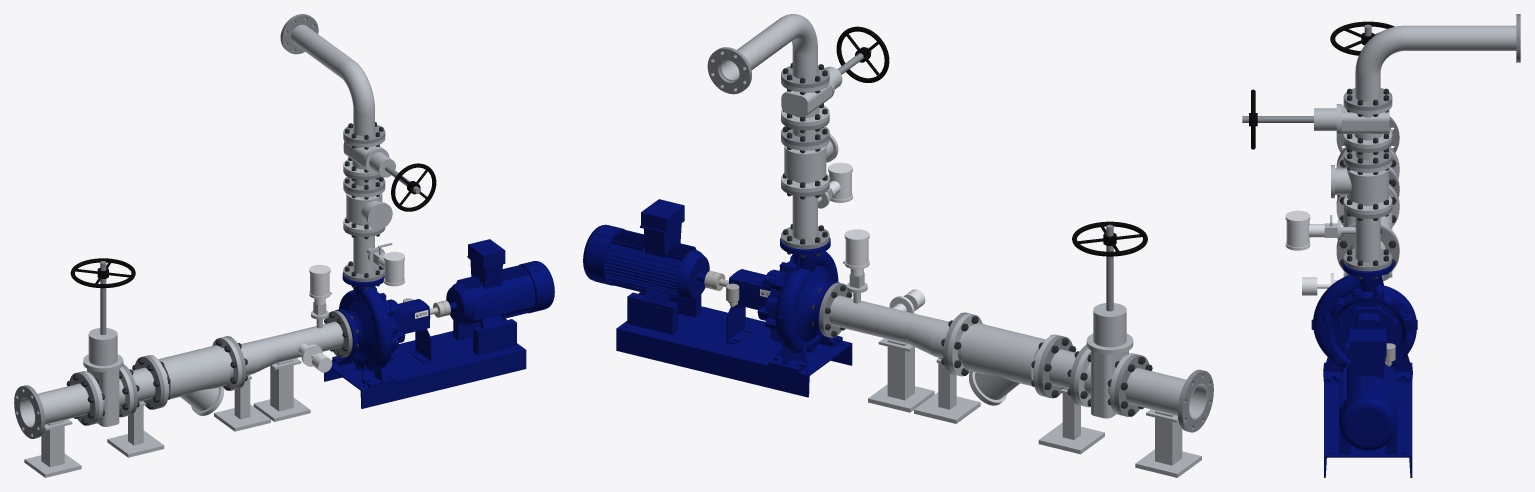
The model's file is cdu_pump_skid_etanorm_125-100-315.glb.
3 views of the same model, side by side, from view 1: azimuth 30°, elevation 25°; view 2: azimuth 150°, elevation 25°; view 3: azimuth 270°, elevation 25° (orthographic). The views are drawn at different scales.
Parts seen in each view (by area): view 1: Standard Motor Data 5468011 0 400 0 180 0 118 5002 1228:1, Standard_baseplate__260500240003:1, S_Y_STRAINER_DN150, Etanorm_Casing2_dev test255125-100-31512510031567035.1111138, HV-101_SUCTION_GATE_VALVE_DN150, S_PIPE_DN150_3_FROM_TOWER, S00_PIPE_SUPPORT, S2_PIPE_SUPPORT, NRV-102_DISCHARGE_CHECK_VALVE_DN100, S_PIPE_DN125, HV-102_DISCHARGE_GATE_VALVE_DN100, S1_PIPE_SUPPORT (+16 smaller); view 2: Standard Motor Data 5468011 0 400 0 180 0 118 5002 1228:1, Standard_baseplate__260500240003:1, S_Y_STRAINER_DN150, Etanorm_Casing2_dev test255125-100-31512510031567035.1111138, HV-101_SUCTION_GATE_VALVE_DN150, S_PIPE_DN150_3_FROM_TOWER, S00_PIPE_SUPPORT, S_PIPE_DN125, S2_PIPE_SUPPORT, NRV-102_DISCHARGE_CHECK_VALVE_DN100, HV-102_DISCHARGE_GATE_VALVE_DN100, D_PIPE_DN100_4_TO_HEADER (+17 smaller); view 3: Standard Motor Data 5468011 0 400 0 180 0 118 5002 1228:1, Etanorm_Casing2_dev test255125-100-31512510031567035.1111138, Standard_baseplate__260500240003:1, D_PIPE_DN100_4_TO_HEADER, HV-102_DISCHARGE_GATE_VALVE_DN100, NRV-102_DISCHARGE_CHECK_VALVE_DN100, Casing_cover3128834942785002400:1, D_ELBOW_90_LR_DN100, Bearing_bracket_3513835.15002400:1, PT-102_DISCHARGE_PRESSURE_TX, D_PIPE_DN100_1, HV-101_SUCTION_HANDWHEEL (+11 smaller).
Part boxes in pixels (x1,y1,x2,y2): Standard Motor Data 5468011 0 400 0 180 0 118 5002 1228:1: [446, 239, 554, 355]; Standard_baseplate__260500240003:1: [324, 331, 526, 408]; S_Y_STRAINER_DN150: [146, 337, 242, 415]; Etanorm_Casing2_dev test255125-100-31512510031567035.1111138: [332, 286, 395, 387]; HV-101_SUCTION_GATE_VALVE_DN150: [81, 328, 133, 426]; S_PIPE_DN150_3_FROM_TOWER: [19, 383, 89, 428]; S00_PIPE_SUPPORT: [253, 358, 310, 421]; S2_PIPE_SUPPORT: [24, 419, 81, 477]; NRV-102_DISCHARGE_CHECK_VALVE_DN100: [343, 186, 392, 233]; S_PIPE_DN125: [269, 321, 343, 362]; HV-102_DISCHARGE_GATE_VALVE_DN100: [343, 136, 395, 177]; S1_PIPE_SUPPORT: [107, 401, 164, 457]; Standard Motor Data 5468011 0 400 0 180 0 118 5002 1228:1: [583, 199, 709, 334]; Standard_baseplate__260500240003:1: [616, 306, 852, 397]; S_Y_STRAINER_DN150: [947, 313, 1059, 405]; Etanorm_Casing2_dev test255125-100-31512510031567035.1111138: [768, 251, 842, 372]; HV-101_SUCTION_GATE_VALVE_DN150: [1074, 303, 1136, 418]; S_PIPE_DN150_3_FROM_TOWER: [1125, 368, 1207, 419]; S00_PIPE_SUPPORT: [868, 338, 934, 412]; S_PIPE_DN125: [829, 295, 914, 343]; S2_PIPE_SUPPORT: [1135, 409, 1201, 477]; NRV-102_DISCHARGE_CHECK_VALVE_DN100: [781, 133, 838, 192]; HV-102_DISCHARGE_GATE_VALVE_DN100: [781, 66, 842, 126]; D_PIPE_DN100_4_TO_HEADER: [720, 17, 797, 81]; Standard Motor Data 5468011 0 400 0 180 0 118 5002 1228:1: [1339, 328, 1396, 454]; Etanorm_Casing2_dev test255125-100-31512510031567035.1111138: [1311, 274, 1417, 382]; Standard_baseplate__260500240003:1: [1324, 362, 1412, 477]; D_PIPE_DN100_4_TO_HEADER: [1406, 25, 1516, 50]; HV-102_DISCHARGE_GATE_VALVE_DN100: [1314, 101, 1392, 148]; NRV-102_DISCHARGE_CHECK_VALVE_DN100: [1331, 159, 1392, 214]; Casing_cover3128834942785002400:1: [1323, 291, 1412, 364]; D_ELBOW_90_LR_DN100: [1355, 25, 1405, 77]; Bearing_bracket_3513835.15002400:1: [1338, 306, 1397, 360]; PT-102_DISCHARGE_PRESSURE_TX: [1285, 210, 1324, 250]; D_PIPE_DN100_1: [1355, 217, 1380, 262]; HV-101_SUCTION_HANDWHEEL: [1330, 21, 1394, 55].
Size of the model in its own units: 3.14 by 1.9 by 1.26.
